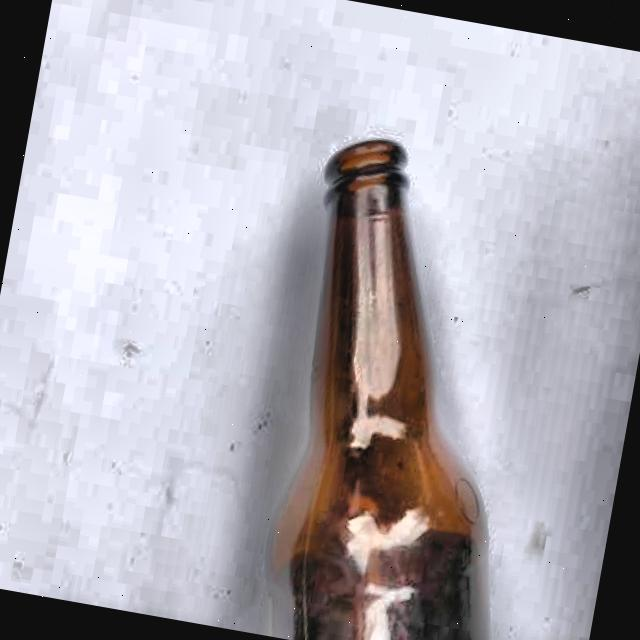glass: (236, 125, 604, 640)
